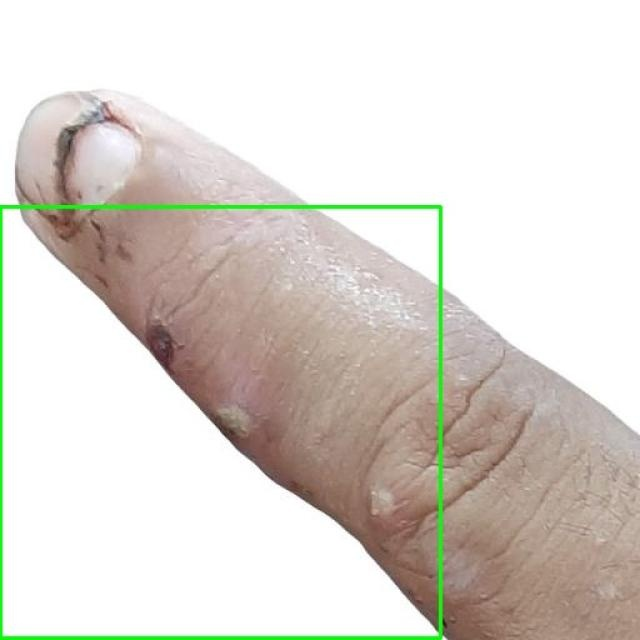Scabies: (0, 208, 441, 639)
